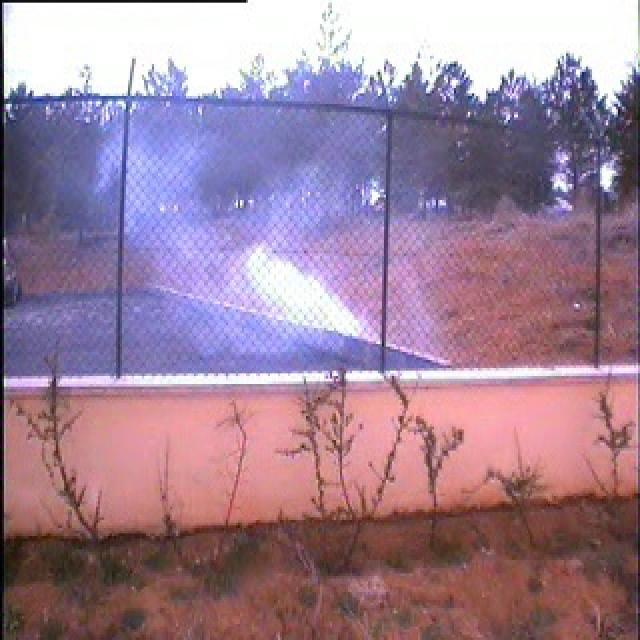Smoke: (90, 46, 432, 358)
